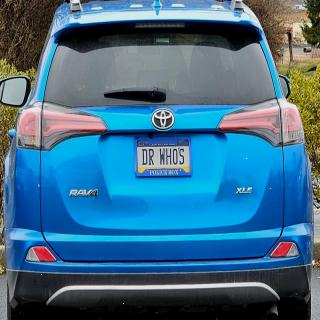license: (135, 136, 194, 179)
